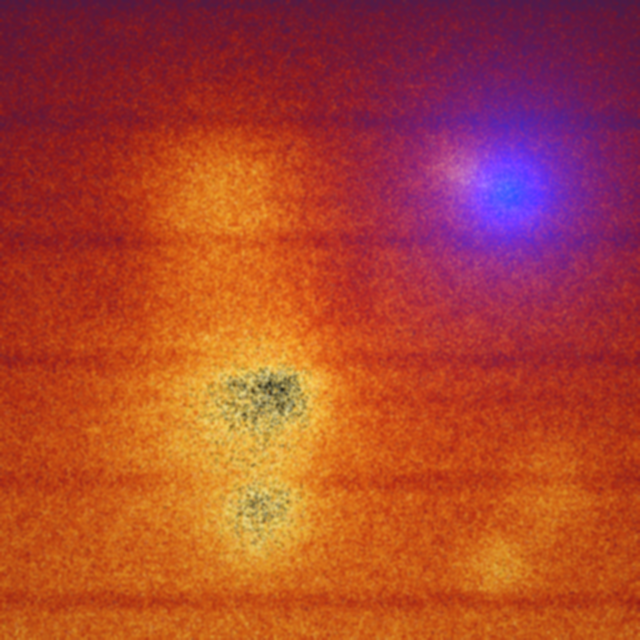nozzle: (470, 161, 554, 240)
